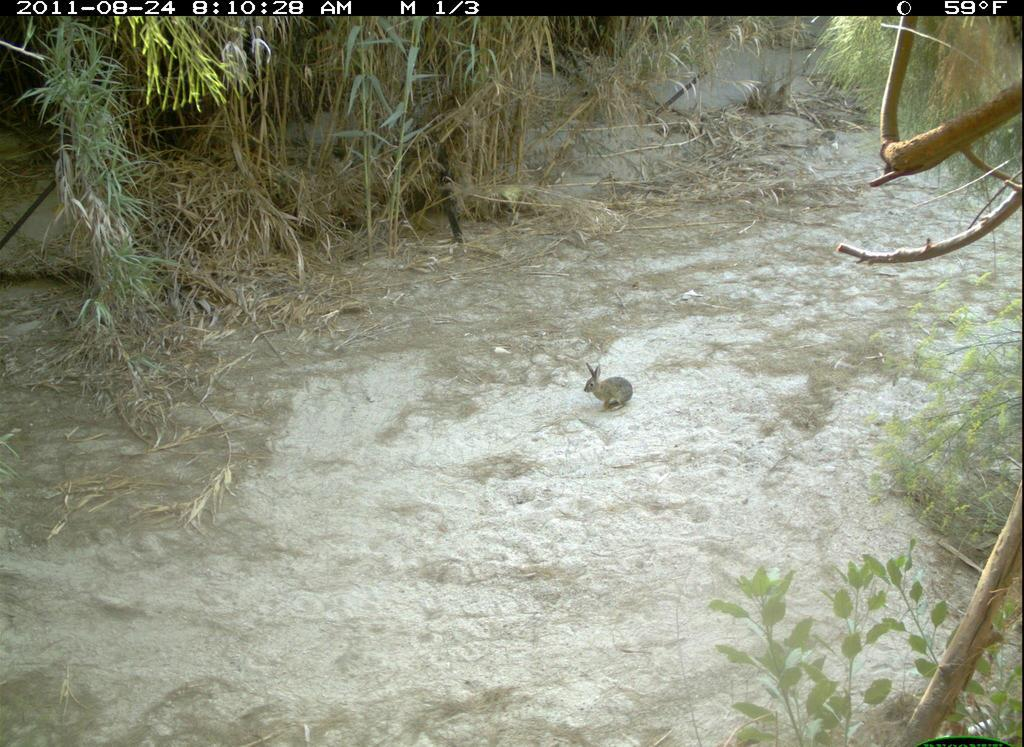rabbit: (574, 356, 641, 420)
